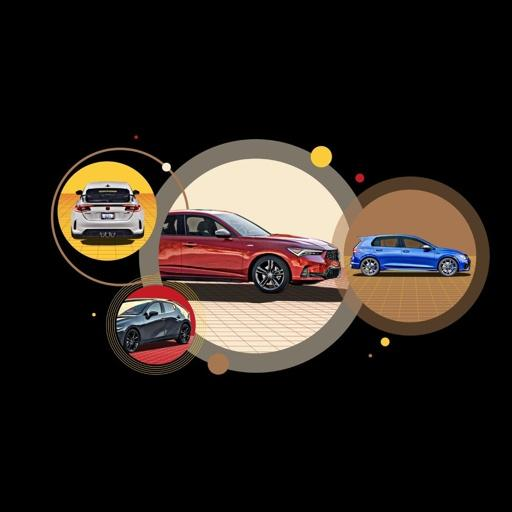hatchback: (157, 208, 339, 291), (349, 233, 470, 275), (115, 297, 191, 352), (70, 182, 143, 237)
